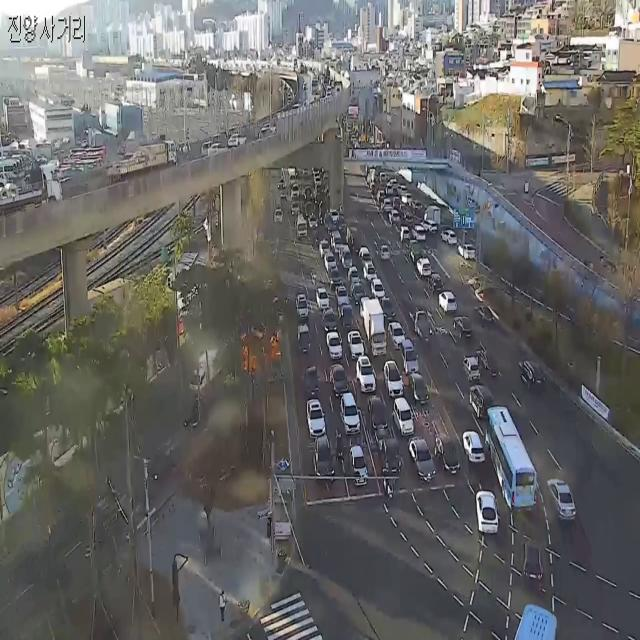bus: (382, 446, 397, 523), (335, 420, 345, 479)
car: (483, 404, 548, 515), (506, 595, 563, 640)
motorcycle: (543, 470, 588, 537), (471, 483, 504, 549), (434, 432, 465, 488), (408, 433, 437, 492), (366, 388, 394, 447), (374, 428, 408, 476), (302, 383, 328, 443), (309, 426, 334, 488), (463, 381, 498, 421), (524, 525, 546, 586), (396, 333, 422, 381), (396, 387, 418, 443), (354, 356, 380, 401), (464, 418, 484, 476), (407, 302, 436, 342), (342, 388, 363, 441), (448, 308, 481, 341), (520, 361, 554, 393), (326, 364, 354, 402), (348, 446, 373, 488), (408, 372, 432, 410), (297, 365, 324, 398), (323, 329, 345, 366), (436, 224, 464, 252), (296, 322, 316, 361), (383, 359, 403, 397), (349, 322, 367, 359), (461, 356, 486, 381), (386, 312, 401, 353), (436, 291, 461, 314), (460, 238, 480, 266), (336, 242, 354, 272), (318, 251, 339, 276), (305, 205, 321, 237), (336, 272, 350, 308), (415, 226, 433, 253), (416, 215, 434, 241), (374, 278, 387, 312), (293, 213, 308, 242), (364, 254, 376, 290), (404, 238, 423, 260), (296, 290, 310, 319), (377, 236, 391, 265), (341, 300, 353, 333), (315, 282, 330, 308), (331, 229, 344, 253), (358, 240, 372, 260), (323, 306, 339, 323), (399, 190, 414, 208), (349, 264, 361, 286), (318, 238, 329, 261), (419, 255, 430, 277), (399, 206, 414, 222), (430, 275, 444, 292), (368, 175, 382, 192), (400, 225, 411, 246), (274, 206, 286, 225), (389, 211, 401, 230), (390, 180, 406, 194), (375, 186, 386, 206), (381, 198, 393, 216), (392, 196, 403, 210), (415, 200, 421, 217)
truck: (358, 290, 387, 356), (424, 202, 444, 226)
